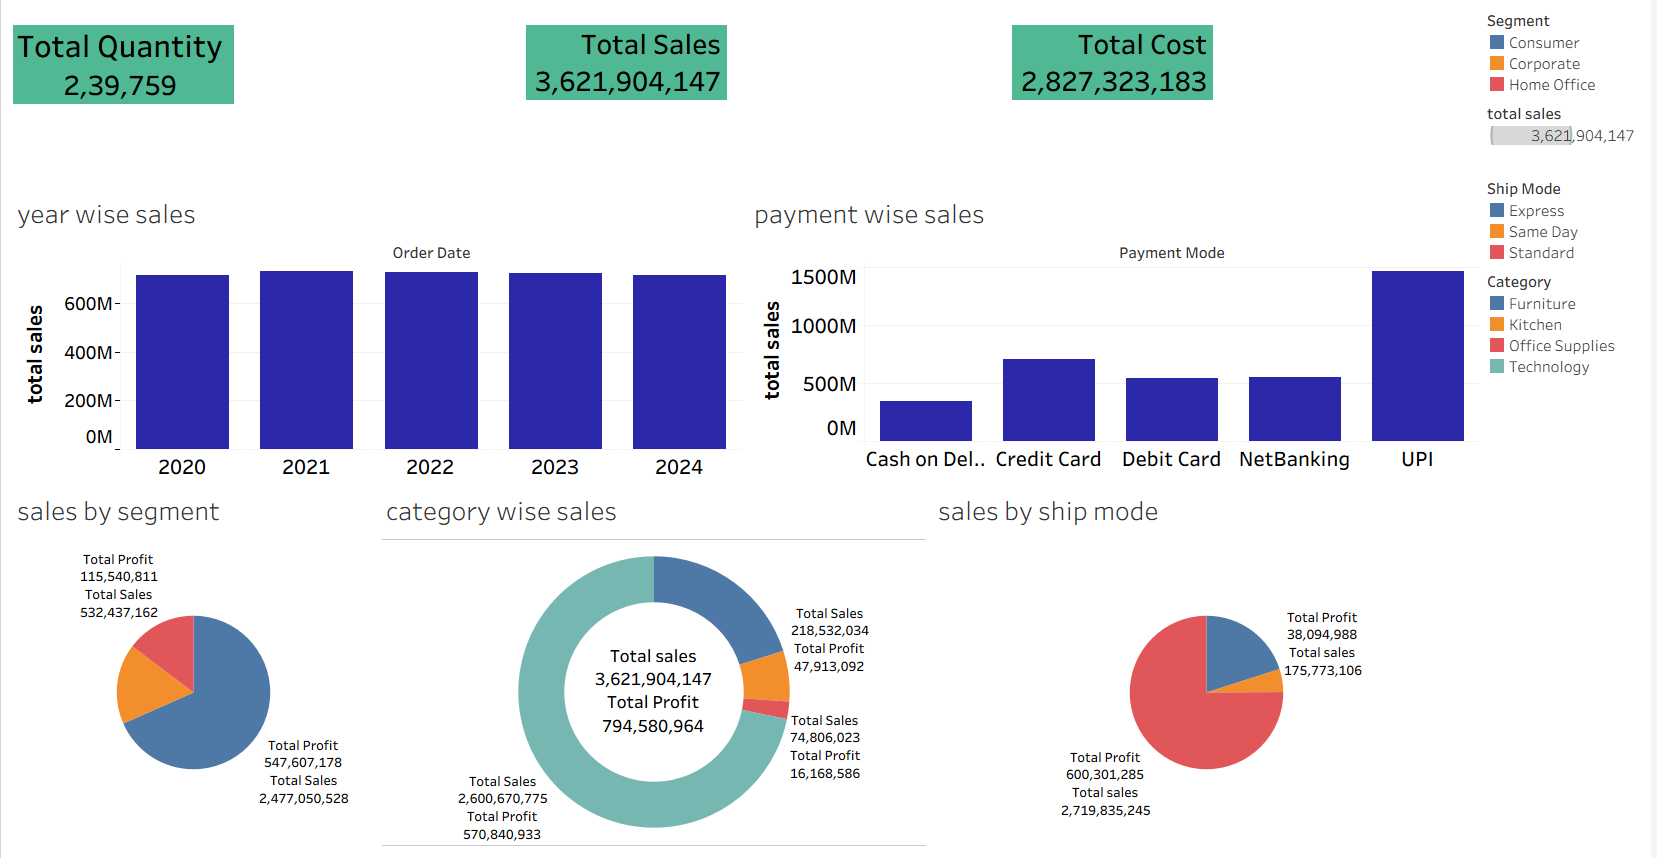

The page's visual inventory and layout, read from the dashboard file:
{"tool":"tableau","page":{"name":"Dashboard 4","canvas":[1000,1000],"units":"permille","ordinal":1},"visuals":[{"type":"worksheet","title":"Total Quantity","mark":"Automatic","box":[4.9,9.3,310.9,211.6]},{"type":"worksheet","title":"total sales","mark":"Automatic","box":[315.8,9.3,294.5,211.6]},{"type":"worksheet","title":"Total cost","mark":"Automatic","box":[610.3,9.3,287.9,211.6]},{"type":"legend","title":"sales by segment","param":"[federated.0b6uyzn1tn4fho1comy171s3y62z].[none:Segment:nk]","box":[898.2,9.3,97,108.1]},{"type":"legend","title":"sales by segment","param":"[federated.0b6uyzn1tn4fho1comy171s3y62z].[usr:Calculation_1266355982566121477:qk","box":[898.2,117.4,97,59.3]},{"type":"legend","title":"payment wise sales","param":"[federated.0b6uyzn1tn4fho1comy171s3y62z].[usr:Calculation_1266355982566457351:qk","box":[898.2,176.7,97,27.9]},{"type":"legend","title":"sales by ship mode","param":"[federated.0b6uyzn1tn4fho1comy171s3y62z].[none:Ship Mode:nk]","box":[898.2,204.6,97,108.1]},{"type":"worksheet","title":"year wise sales","mark":"Bar","rows":["Calculation_1266355982566121477"],"cols":["Order Date"],"box":[4.9,220.9,446.7,345.4]},{"type":"worksheet","title":"payment wise sales","mark":"Bar","rows":["Calculation_1266355982566121477"],"cols":["Payment Mode"],"box":[451.5,220.9,446.7,345.4]},{"type":"legend","title":"category wise sales","param":"[federated.0b6uyzn1tn4fho1comy171s3y62z].[none:Category:nk]","box":[898.2,312.8,97,132.6]},{"type":"worksheet","title":"sales by segment","mark":"Pie","box":[4.9,566.3,223.3,424.4]},{"type":"worksheet","title":"category wise sales","mark":"Pie","cols":["Calculation_1359805674853687299","Calculation_1359805674853687299"],"box":[228.2,566.3,335,424.4]},{"type":"worksheet","title":"sales by ship mode","mark":"Pie","box":[563.2,566.3,335,424.4]}]}

Visuals, with their boxes on the dashboard's canvas, which has no fixed pixel size, in thousandths of its width and height (x1, y1, x2, y2). These are canvas units, not pixel positions in the 1657x858 screenshot, which may show the page scaled, cropped or inside an application window:
"Total Quantity" worksheet: box(5, 9, 316, 221)
"total sales" worksheet: box(316, 9, 610, 221)
"Total cost" worksheet: box(610, 9, 898, 221)
"sales by segment" legend: box(898, 9, 995, 117)
"sales by segment" legend: box(898, 117, 995, 177)
"payment wise sales" legend: box(898, 177, 995, 205)
"sales by ship mode" legend: box(898, 205, 995, 313)
"year wise sales" worksheet (Bar marks): box(5, 221, 452, 566)
"payment wise sales" worksheet (Bar marks): box(452, 221, 898, 566)
"category wise sales" legend: box(898, 313, 995, 445)
"sales by segment" worksheet (Pie marks): box(5, 566, 228, 991)
"category wise sales" worksheet (Pie marks): box(228, 566, 563, 991)
"sales by ship mode" worksheet (Pie marks): box(563, 566, 898, 991)
